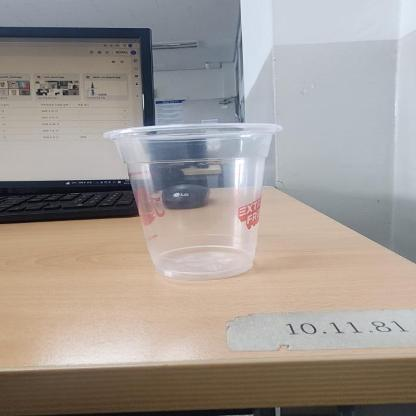Plastic Cup: (103, 123, 283, 281)
